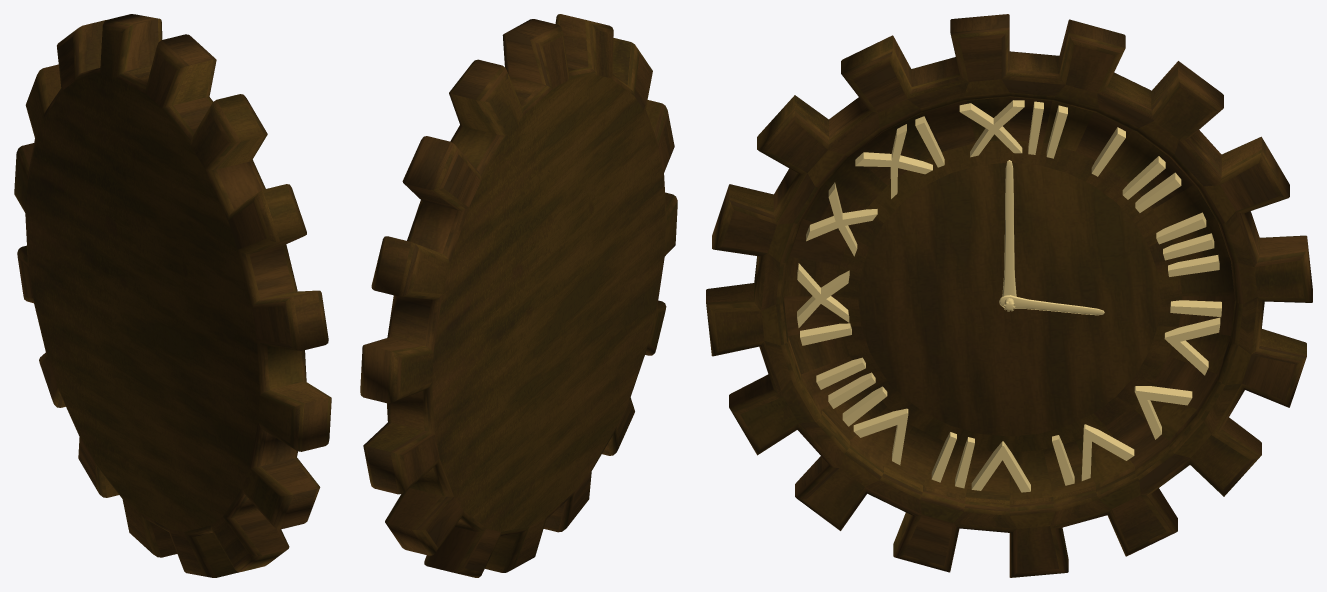
The model's file is Clock.fbx.
The picture shows the model from 3 angles, left to right: view 1: azimuth 30°, elevation 25°; view 2: azimuth 150°, elevation 25°; view 3: azimuth 270°, elevation 25°; orthographic projection. The views are drawn at different scales.
Parts seen in each view (by area): view 1: Circle; view 2: Circle; view 3: Circle, Text, Cube.001, Cube.002.
Boxes of the visible parts, left/top/right/bottom form: Circle: left=14, top=14, right=331, bottom=577; Circle: left=360, top=14, right=677, bottom=577; Circle: left=706, top=14, right=1312, bottom=577; Text: left=797, top=100, right=1221, bottom=492; Cube.001: left=1002, top=160, right=1016, bottom=296; Cube.002: left=999, top=295, right=1104, bottom=315.
Bounding box in the file's own units: 24.9 × 238 × 238.
